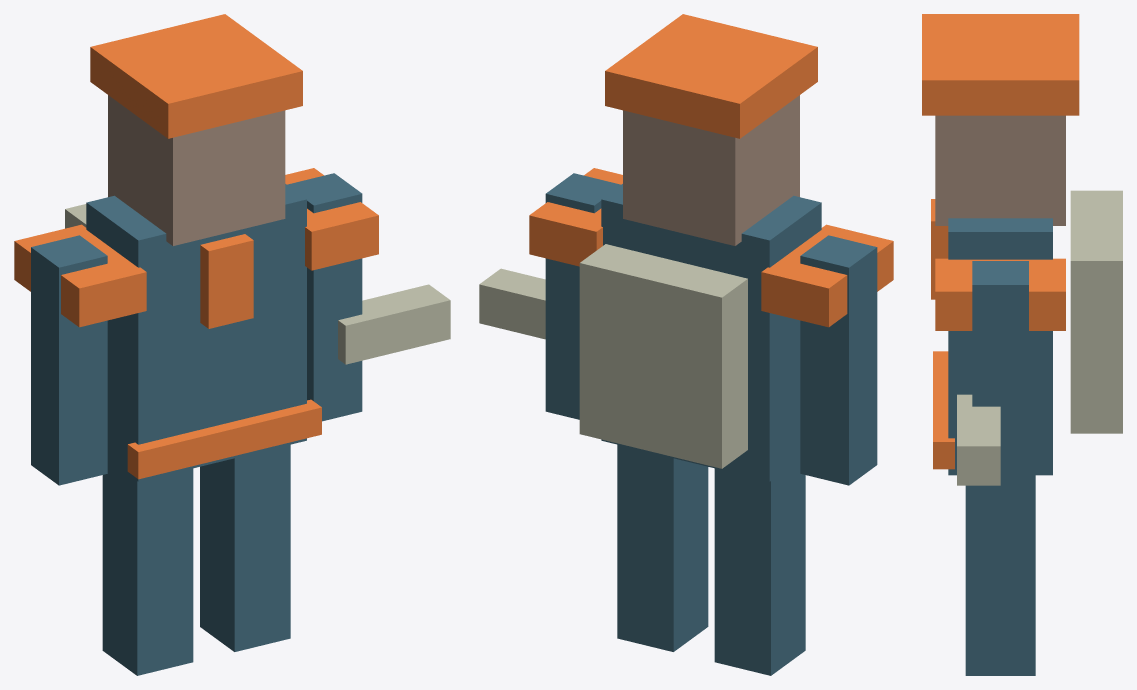
File: 08_soren_chromabell_herald_at_elemental.glb
The picture shows the model from 3 angles, left to right: view 1: azimuth 30°, elevation 25°; view 2: azimuth 150°, elevation 25°; view 3: azimuth 270°, elevation 25°; orthographic projection.
Visible parts, largest first — view 1: Soren Chromabell, Herald at Elemental; view 2: Soren Chromabell, Herald at Elemental; view 3: Soren Chromabell, Herald at Elemental.
Part boxes in pixels (<box>): Soren Chromabell, Herald at Elemental: <box>14,14,450,675</box>; Soren Chromabell, Herald at Elemental: <box>479,14,893,675</box>; Soren Chromabell, Herald at Elemental: <box>922,14,1122,675</box>.
Size of the model in its own units: 0.9518 by 1.39 by 0.4271.
